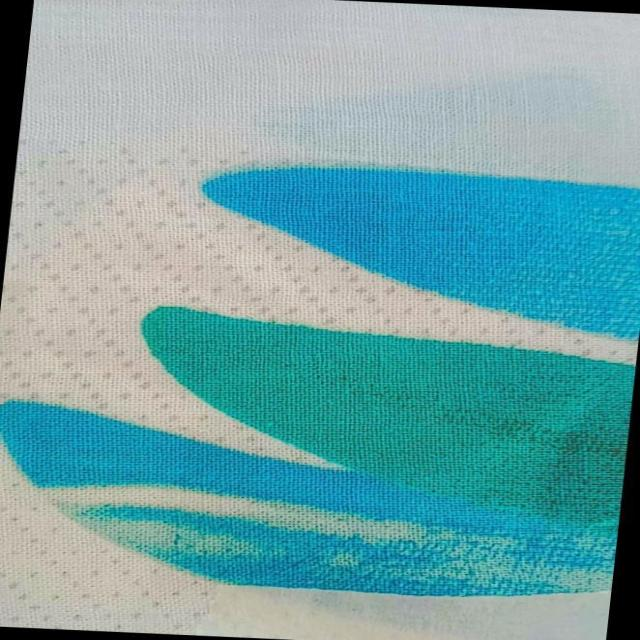selvet: (18, 476, 435, 551)
